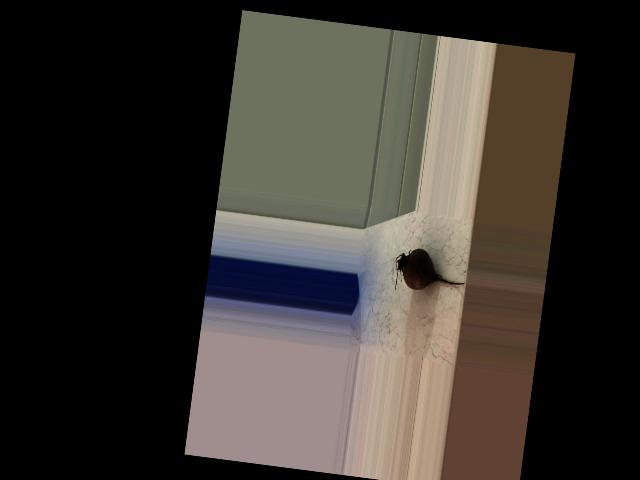beet: (391, 246, 468, 299)
